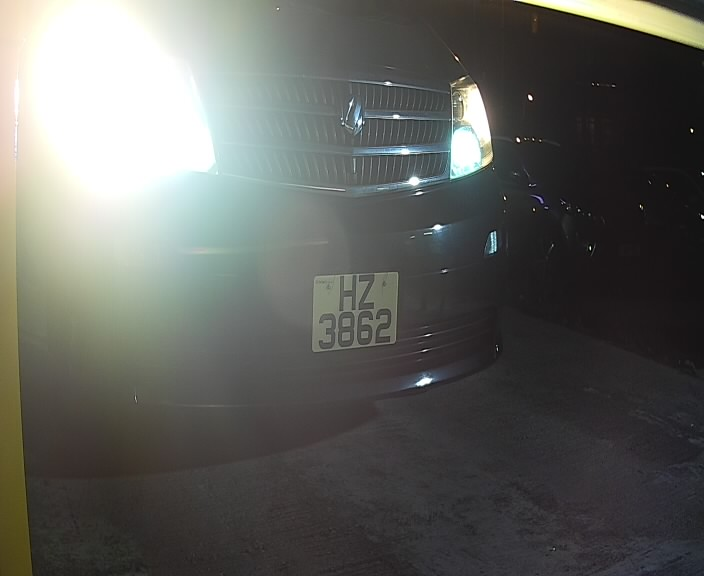Car: (21, 2, 542, 465)
License Plate: (307, 266, 405, 359)
